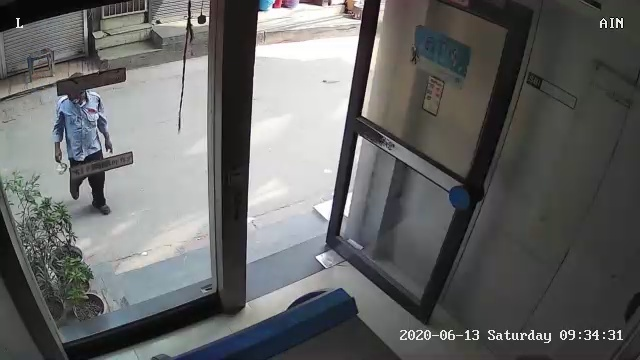open: (199, 8, 535, 325)
